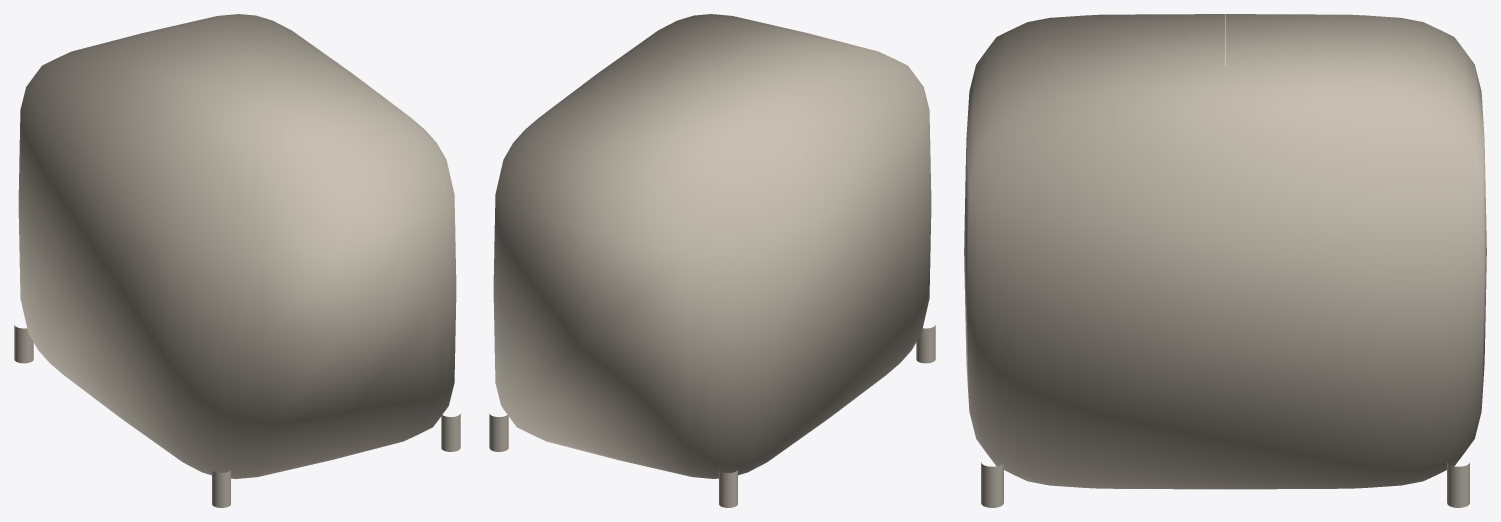
Rendered from norr11-fave-nor-fave-chr-chrme-cat0-g2-proxy.glb.
3 views of the same model, side by side, from view 1: azimuth 30°, elevation 25°; view 2: azimuth 150°, elevation 25°; view 3: azimuth 270°, elevation 25° (orthographic). The views are drawn at different scales.
Visible parts, largest first — view 1: proxy_body, leg (×3); view 2: proxy_body, leg (×3); view 3: proxy_body, leg (×2).
Part boxes in pixels (x1,y1,x2,y2): proxy_body: (18,14,456,478); leg (×3): (14,325,460,507); proxy_body: (493,14,931,478); leg (×3): (489,325,935,507); proxy_body: (964,14,1486,489); leg (×2): (981,462,1469,507).
Bounding box in the file's own units: 0.65 × 0.72 × 0.92.
